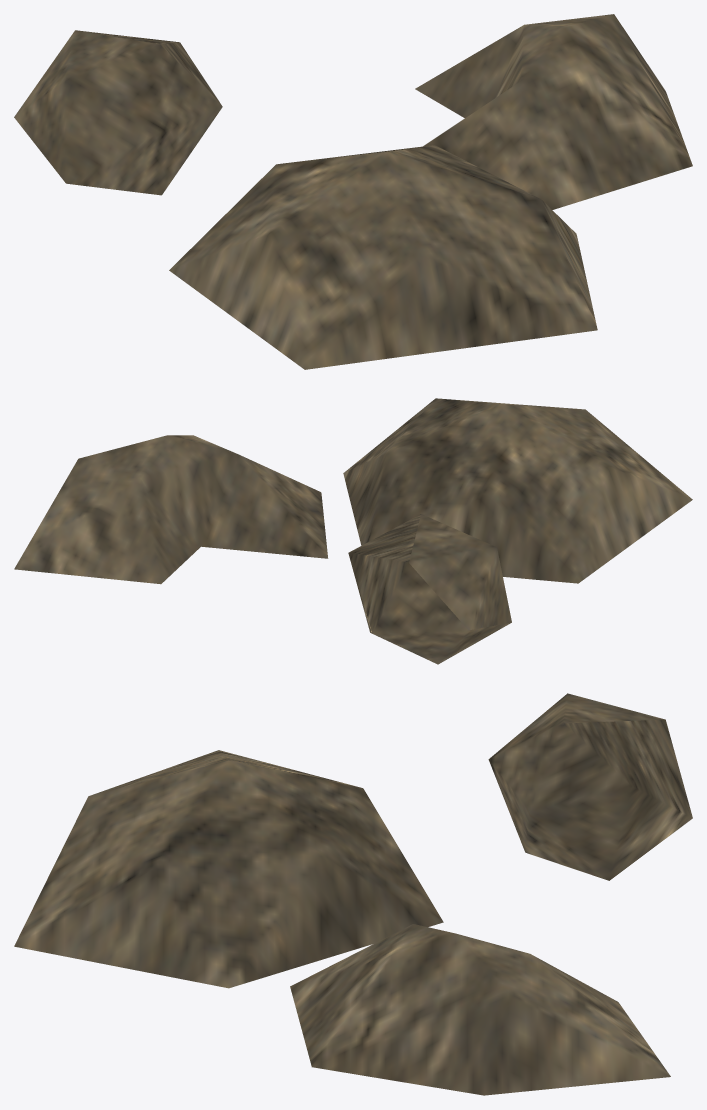
Rendered from rock_gclump1.glb.
3 views of the same model, one above another, from view 1: azimuth 30°, elevation 25°; view 2: azimuth 150°, elevation 25°; view 3: azimuth 270°, elevation 25° (orthographic). The views are drawn at different scales.
Visible parts, largest first — view 1: Rock_GClump1; view 2: Rock_GClump1; view 3: Rock_GClump1.
Part boxes in pixels (left/top/right/bottom): Rock_GClump1: left=14, top=14, right=692, bottom=369; Rock_GClump1: left=14, top=398, right=692, bottom=664; Rock_GClump1: left=14, top=693, right=692, bottom=1095.
Size of the model in its own units: 23.2 by 5.67 by 23.25.
1 material, 1 textured.
